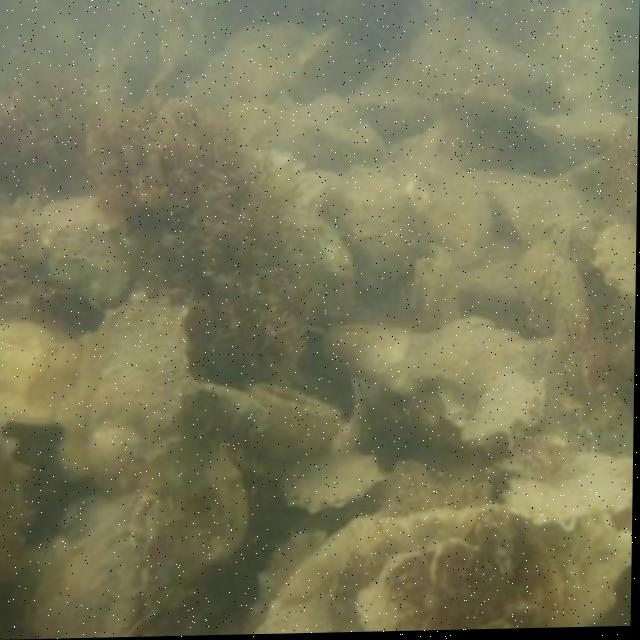Oyster-Closed: (25, 496, 156, 639), (250, 383, 346, 467), (461, 370, 549, 447), (277, 452, 379, 512)
Oyster-Indeterminate: (260, 508, 564, 634), (64, 295, 190, 500), (39, 193, 137, 307), (536, 513, 632, 627), (159, 443, 251, 560), (341, 164, 420, 282), (0, 307, 77, 425), (548, 258, 610, 397), (416, 318, 523, 392), (324, 324, 426, 396), (295, 92, 386, 158), (493, 174, 577, 243), (425, 186, 494, 266), (435, 84, 540, 128), (528, 104, 631, 143), (410, 257, 459, 332), (596, 223, 636, 302)
